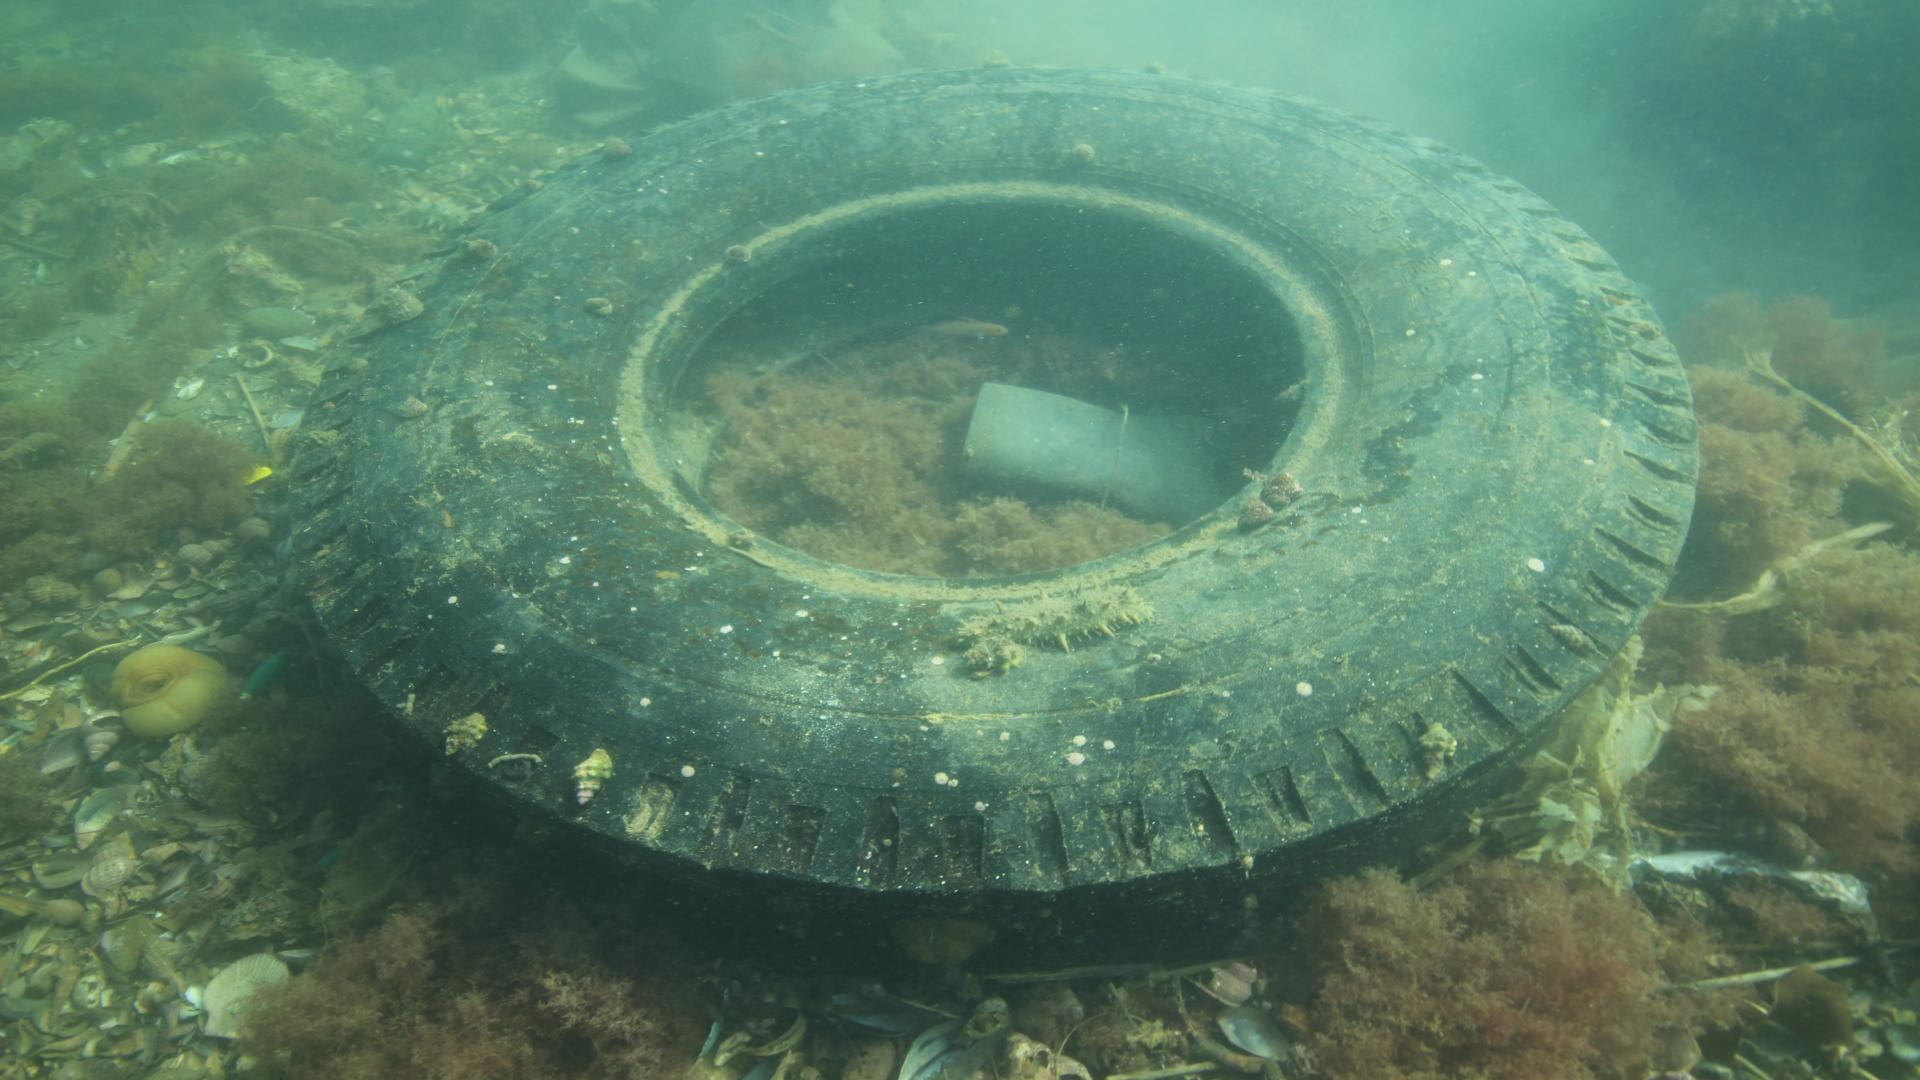tire: (274, 61, 1701, 982)
